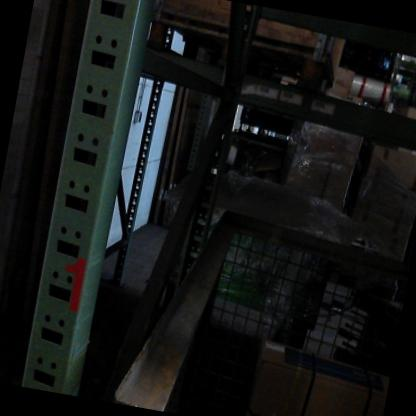pallet: (127, 13, 328, 104)
stillage: (150, 135, 416, 416)
